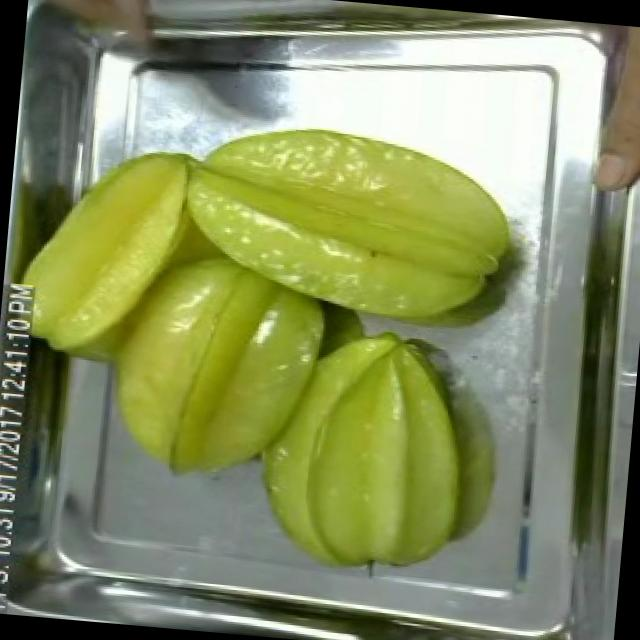fruit: (166, 103, 528, 344), (88, 228, 348, 500), (238, 312, 486, 590), (3, 132, 198, 374), (579, 22, 640, 204)
